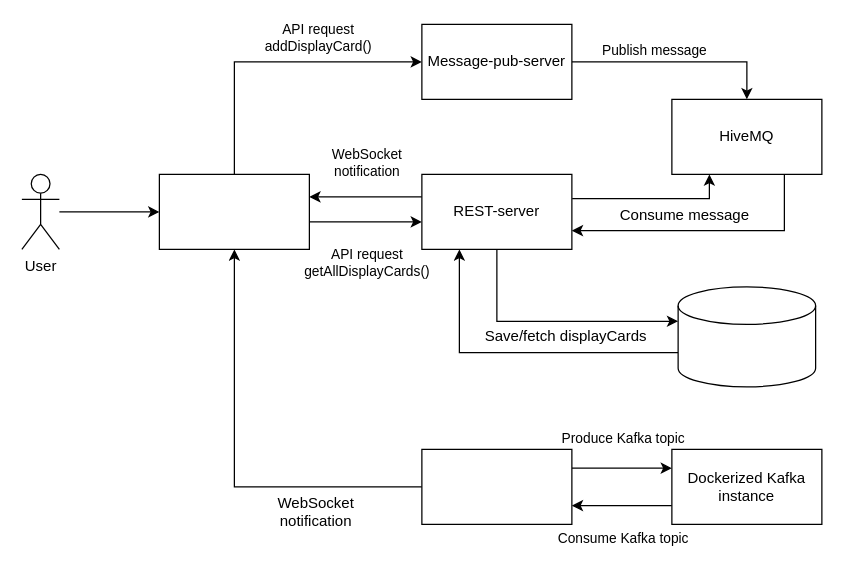
Some shapes in this 844 by 568 pixel diagram are drawn without their labels. The shapes that lost their labels are listed below. From the top down, each one's centre as x and y in pixels, then its label:
point 233,211: Frontend
point 746,336: H2 Database
point 496,486: Kafka-server
